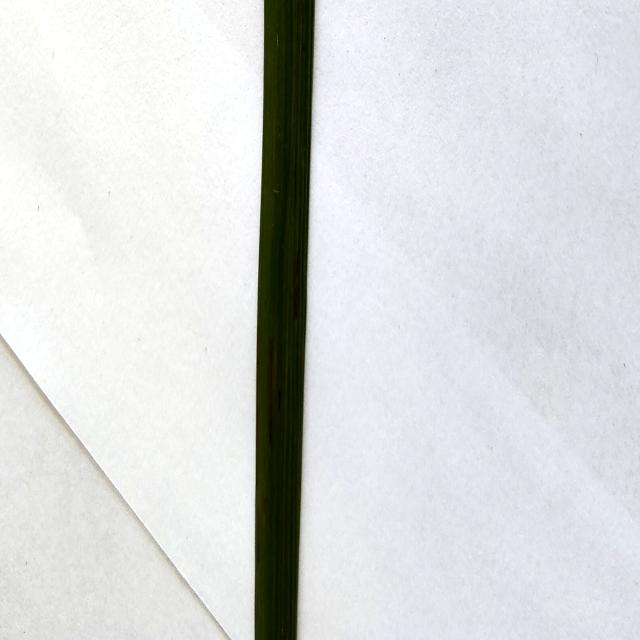NBS: (268, 336, 273, 447)
